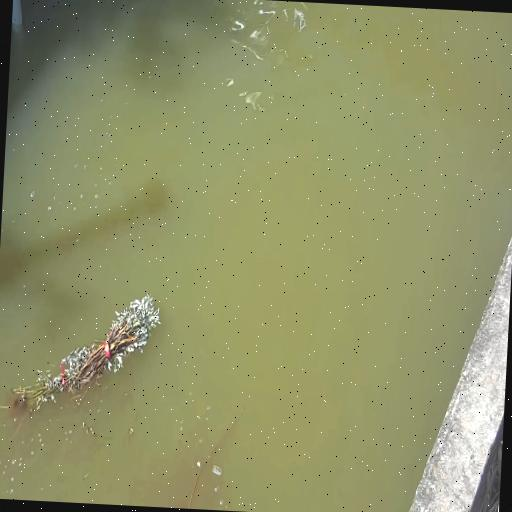twig: (11, 294, 160, 413)
